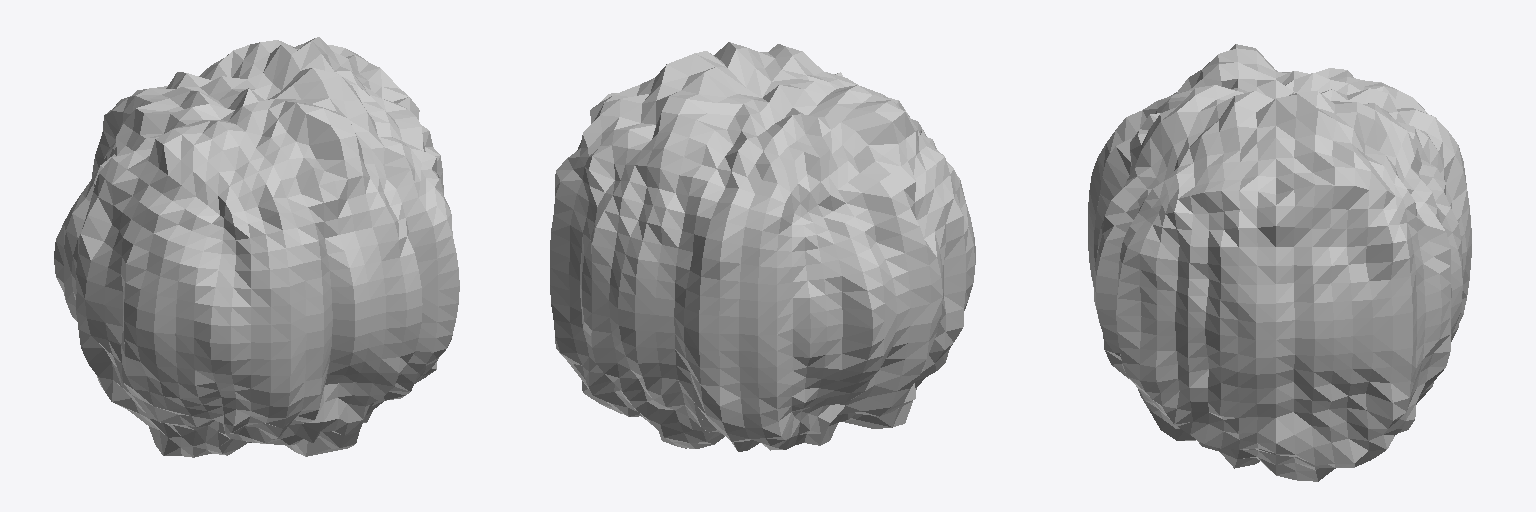
Rendered from asteroid18.obj.
3 renders of one model, left to right at view 1: azimuth 30°, elevation 25°; view 2: azimuth 150°, elevation 25°; view 3: azimuth 270°, elevation 25°, orthographic.
Visible parts, largest first — view 1: Cube_Cube.002; view 2: Cube_Cube.002; view 3: Cube_Cube.002.
Boxes of the visible parts, <box> form: Cube_Cube.002: <box>54,37,459,457</box>; Cube_Cube.002: <box>550,42,975,451</box>; Cube_Cube.002: <box>1088,44,1471,481</box>.
Bounding box in the file's own units: 1.72 × 1.83 × 1.65.